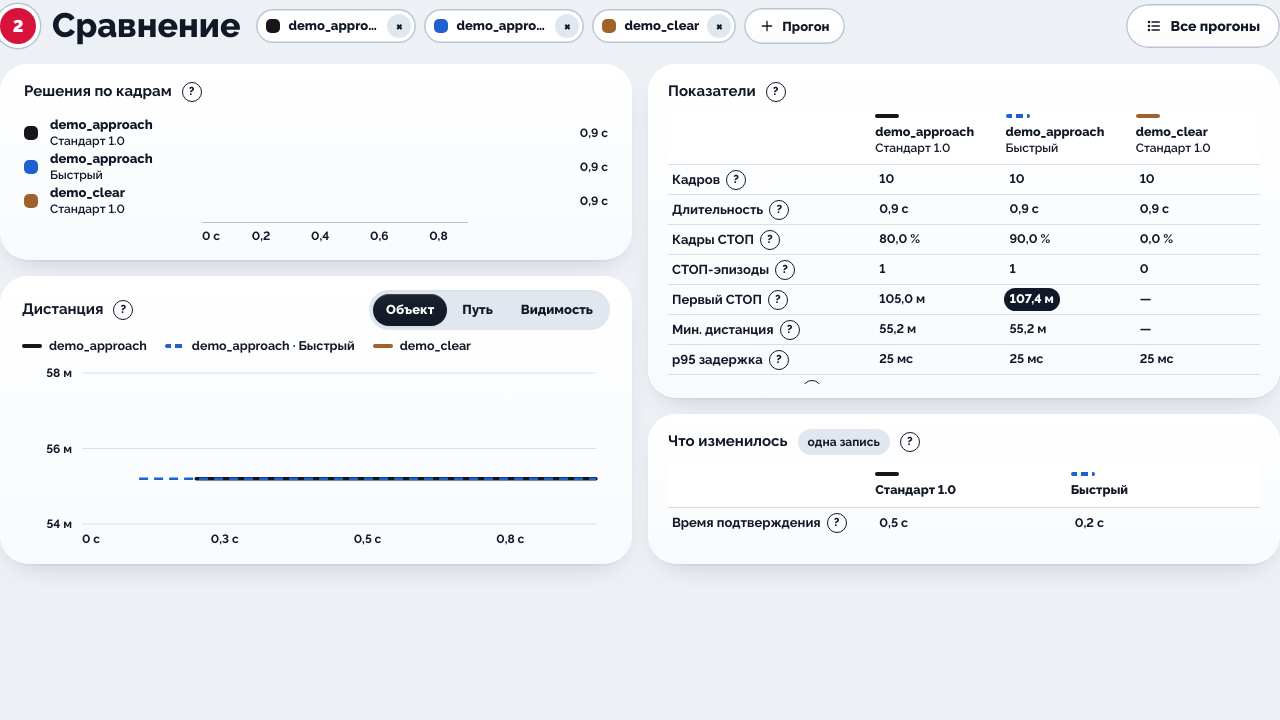
Test: Сравнение › removes a run keeping the colour slots in the URL, and asks for more below two
Click the button named "Убрать из сравнения: demo_approach · Быстрый" at (568, 26), box 556,14 -> 580,38
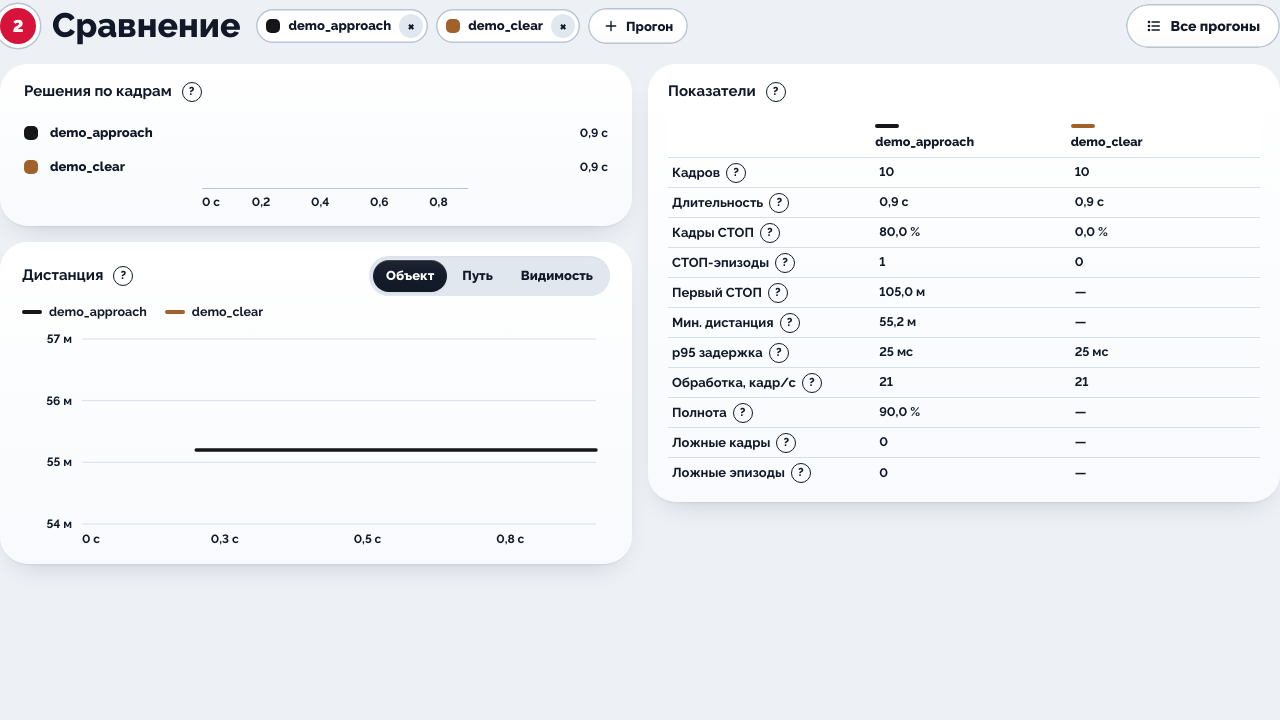
Result: the heading "Что изменилось" is gone
Click the button named "Убрать из сравнения: demo_clear" at (563, 26), box 551,14 -> 575,38
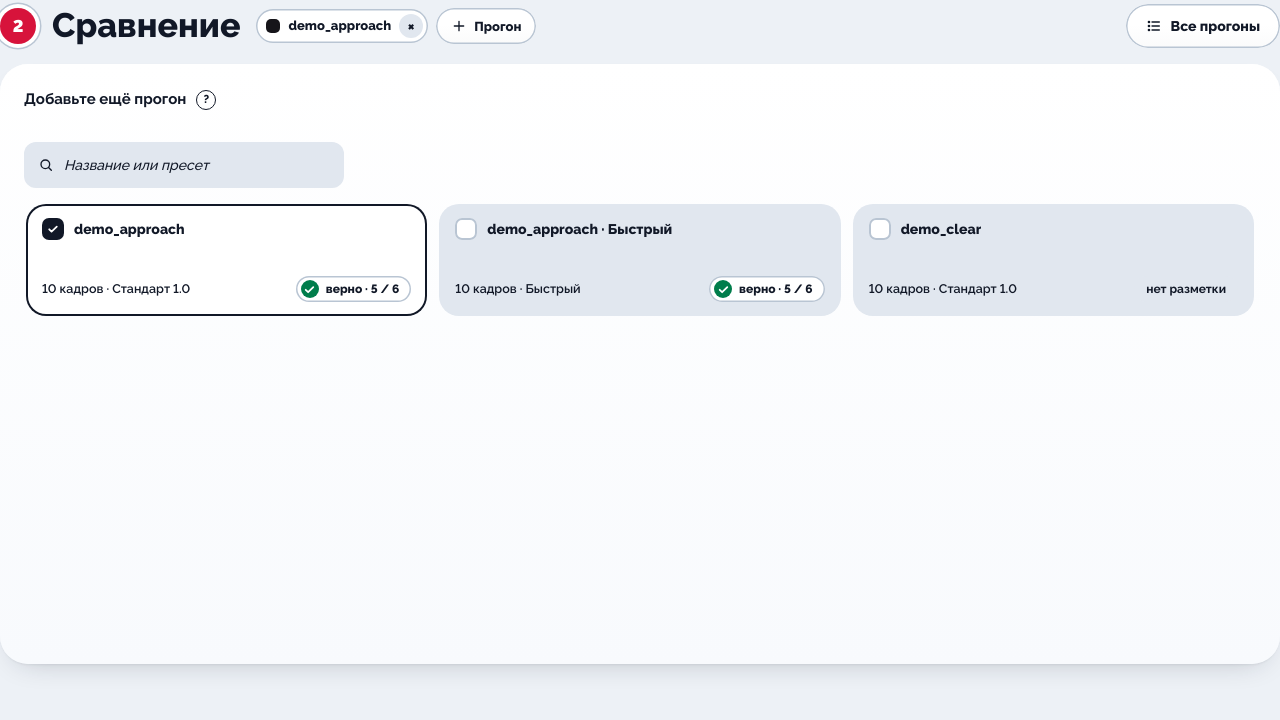
Result: the heading "Добавьте ещё прогон" is shown at 24,92 -> 186,108
# pick another run in the chooser
Click the checkbox named "Сравнить: demo_clear" at (880, 229), box 869,218 -> 891,240
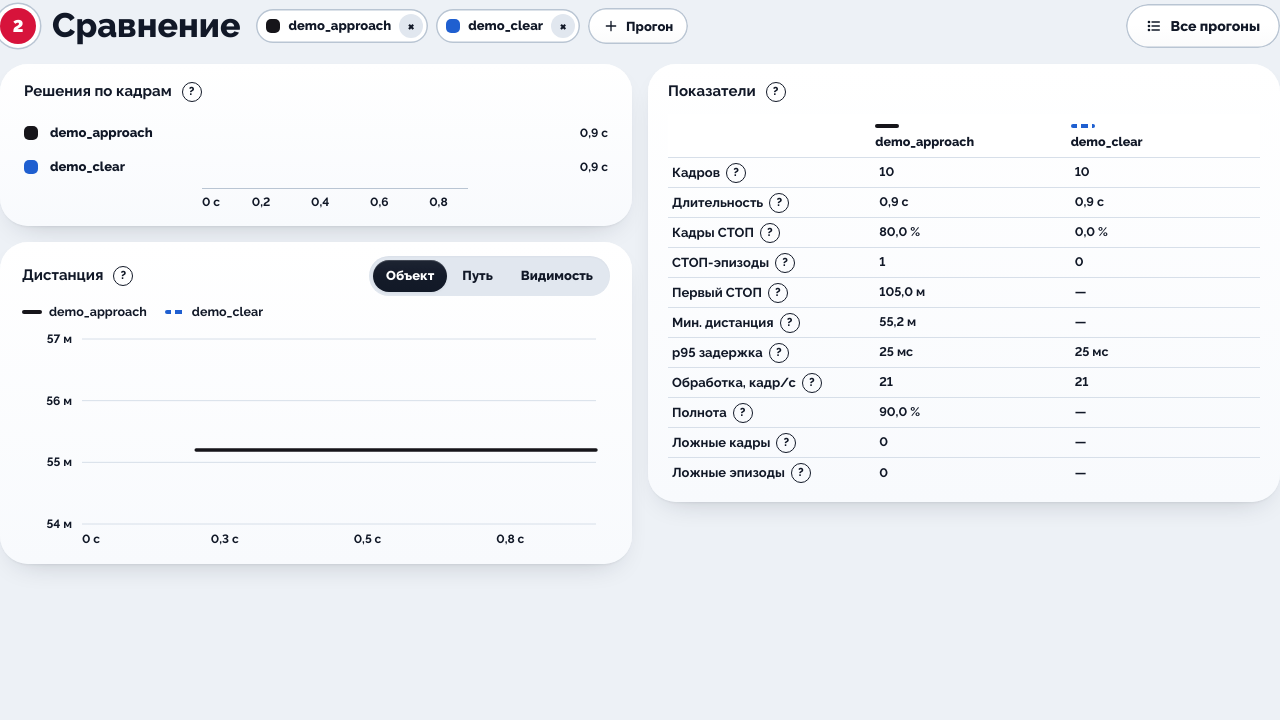
Result: the heading "Показатели" is shown at 668,84 -> 756,100
